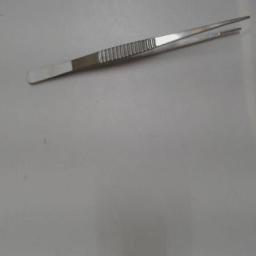DeBakey Dissector: (22, 10, 254, 92)
